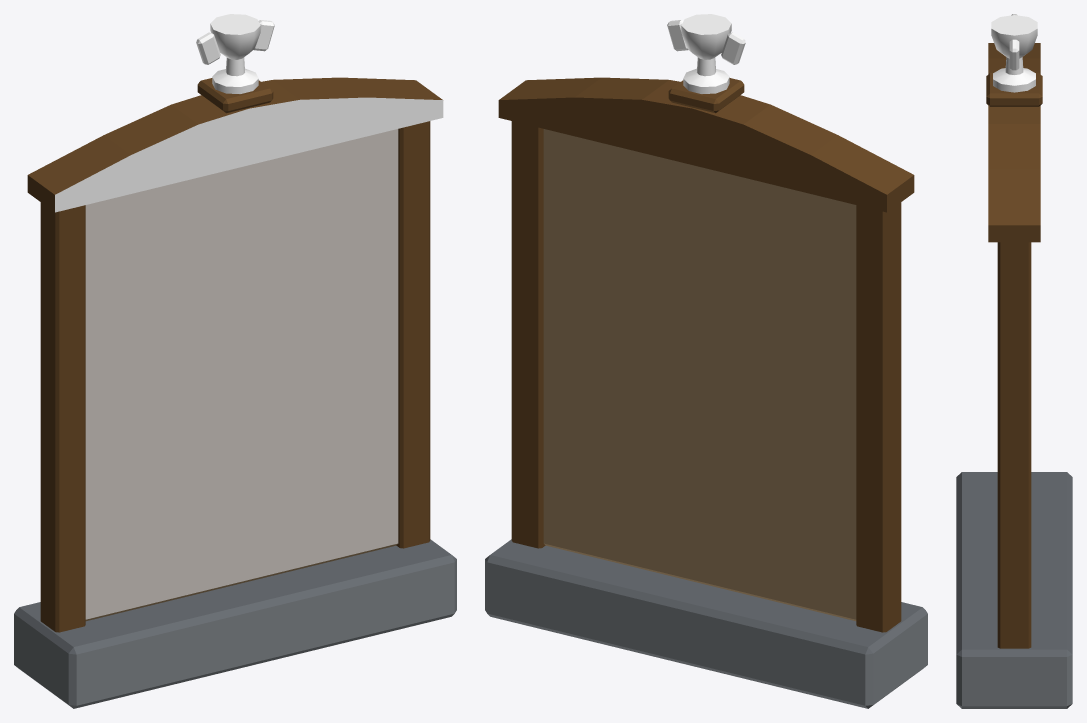
Rendered from leaderboard.glb.
The picture shows the model from 3 angles, left to right: view 1: azimuth 30°, elevation 25°; view 2: azimuth 150°, elevation 25°; view 3: azimuth 270°, elevation 25°; orthographic projection. The views are drawn at different scales.
Visible parts, largest first — view 1: Leaderboard; view 2: Leaderboard; view 3: Leaderboard.
Part boxes in pixels (x1=…): Leaderboard: x1=14, y1=14, x2=456, y2=708; Leaderboard: x1=485, y1=14, x2=927, y2=708; Leaderboard: x1=956, y1=14, x2=1072, y2=708.
Size of the model in its own units: 2.3 by 3.5 by 0.62.
